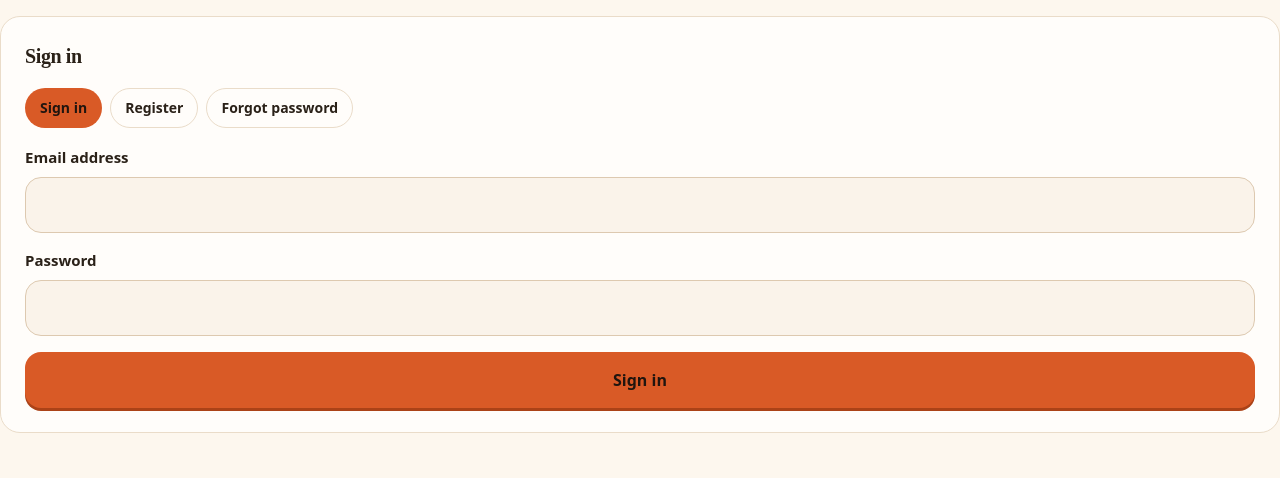
Scenario: AuthPanel › exposes the modes as a keyboard reachable tablist
Click the tab "Register". click: x=154, y=108
box: [110, 88, 198, 128]
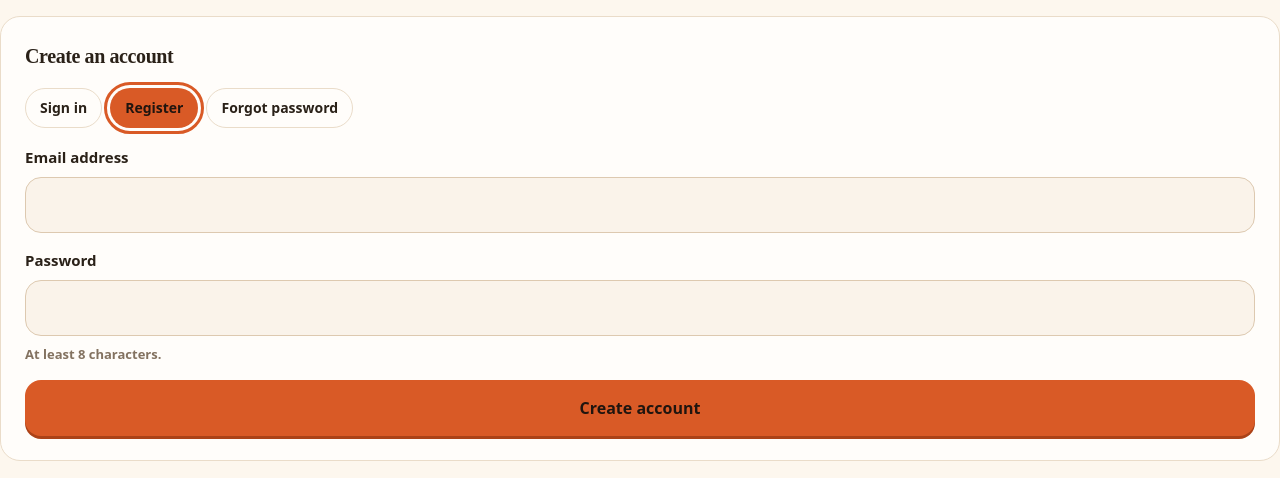
Check: the heading "Create an account" is shown, box [25, 45, 173, 67]
